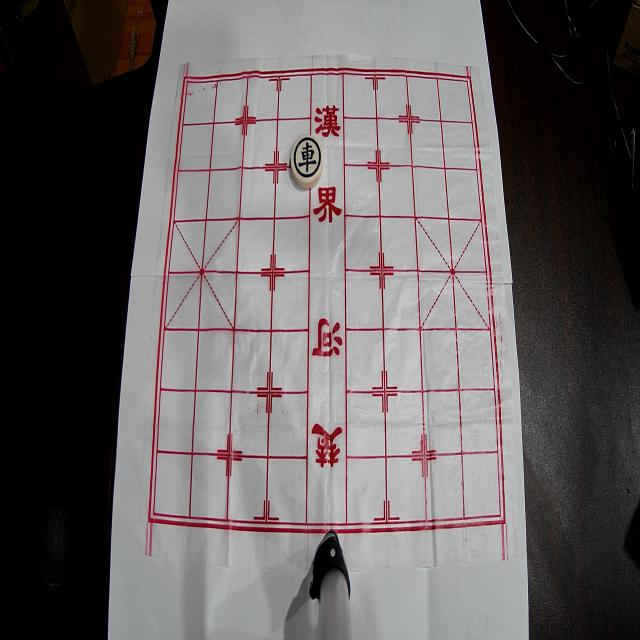black-chariot: (290, 134, 324, 188)
